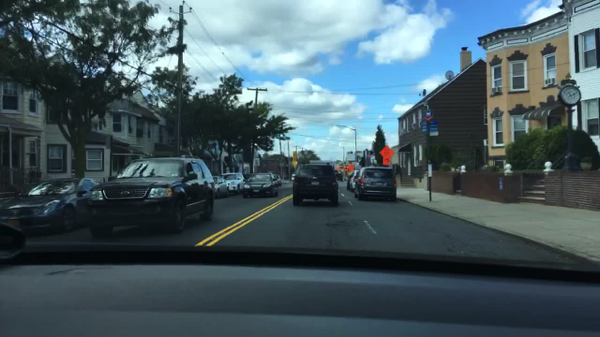car: (87, 155, 215, 237), (2, 179, 99, 235), (291, 162, 339, 206), (358, 166, 397, 203), (242, 172, 279, 199), (211, 175, 230, 199), (225, 171, 246, 192), (347, 171, 361, 191), (271, 175, 284, 187), (345, 171, 353, 189), (334, 170, 344, 180)
traffic sign: (377, 145, 393, 160), (430, 122, 439, 136), (419, 122, 427, 132), (382, 159, 391, 166)
